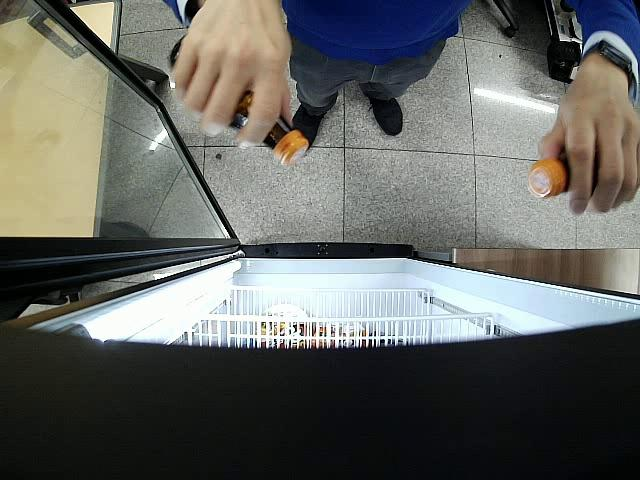00_hand: (172, 1, 294, 151), (538, 71, 640, 211)
17_vita500: (169, 39, 307, 165), (529, 158, 570, 199)
